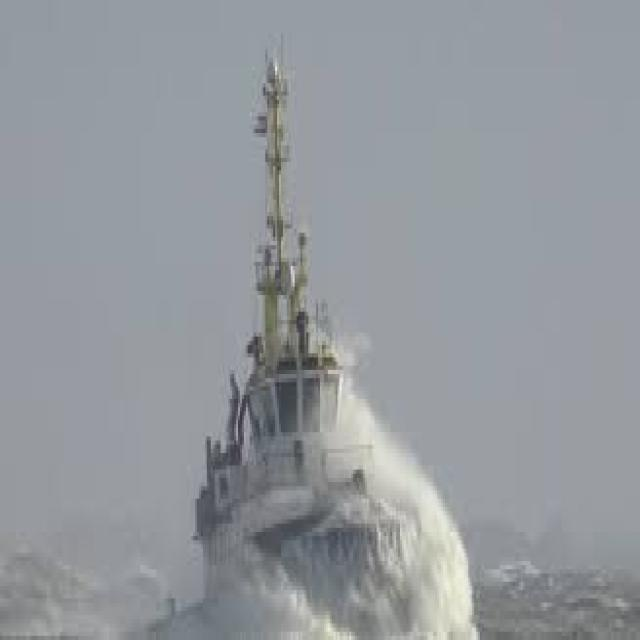navalvessels: (183, 47, 415, 634)
